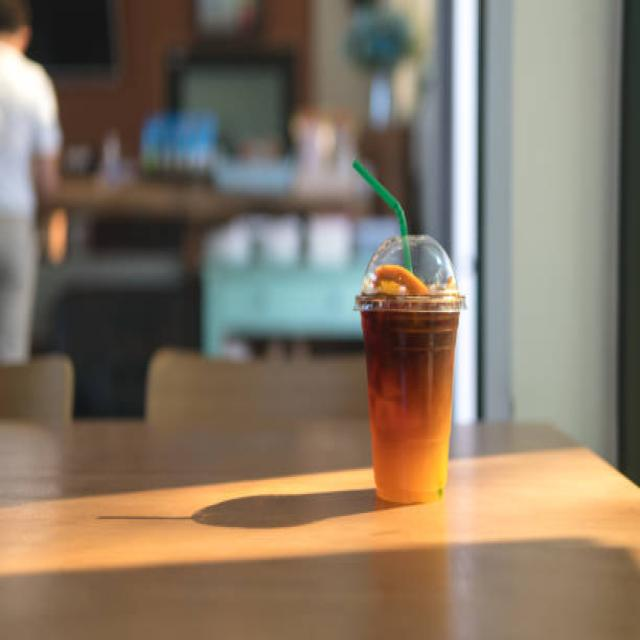cup: (356, 232, 468, 510)
